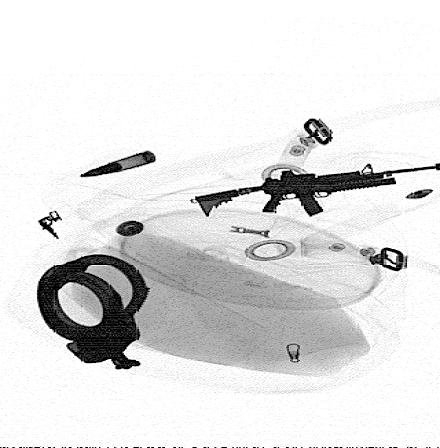Bullet: (77, 150, 157, 177)
Gun: (196, 162, 438, 218)
HandCuffs: (34, 253, 153, 373)
